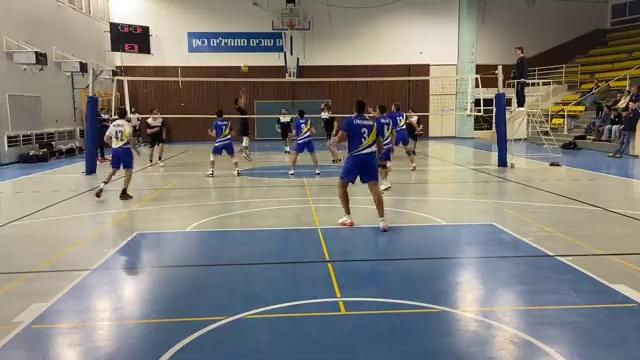ball: (241, 66, 249, 72)
